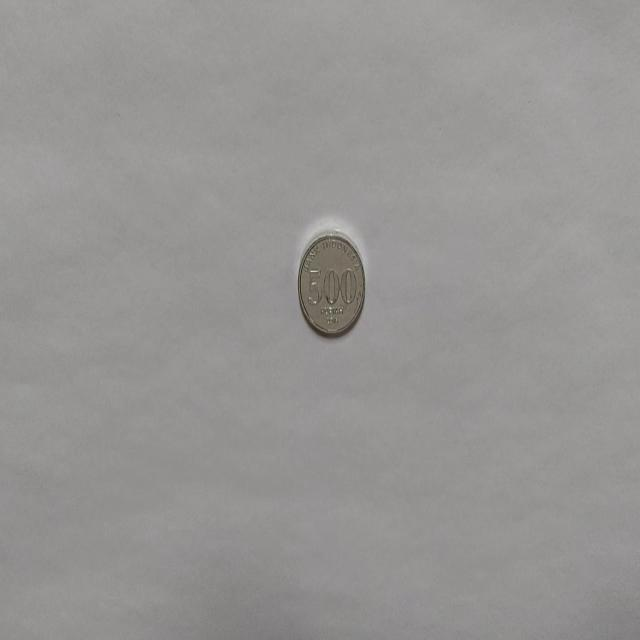lima ratus rupiah: (296, 229, 366, 338)
